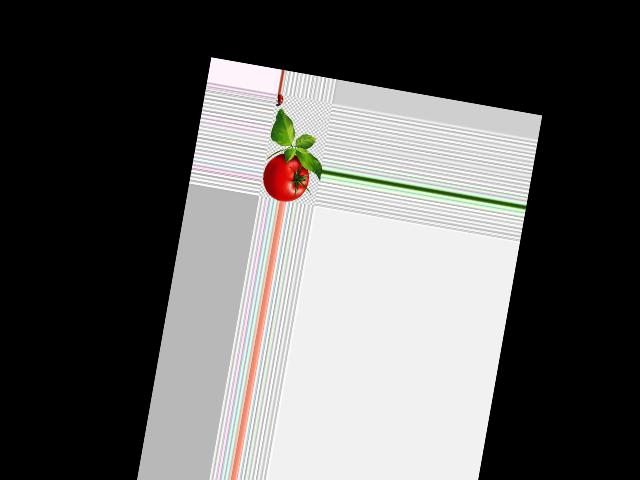tomato: (259, 150, 312, 205)
